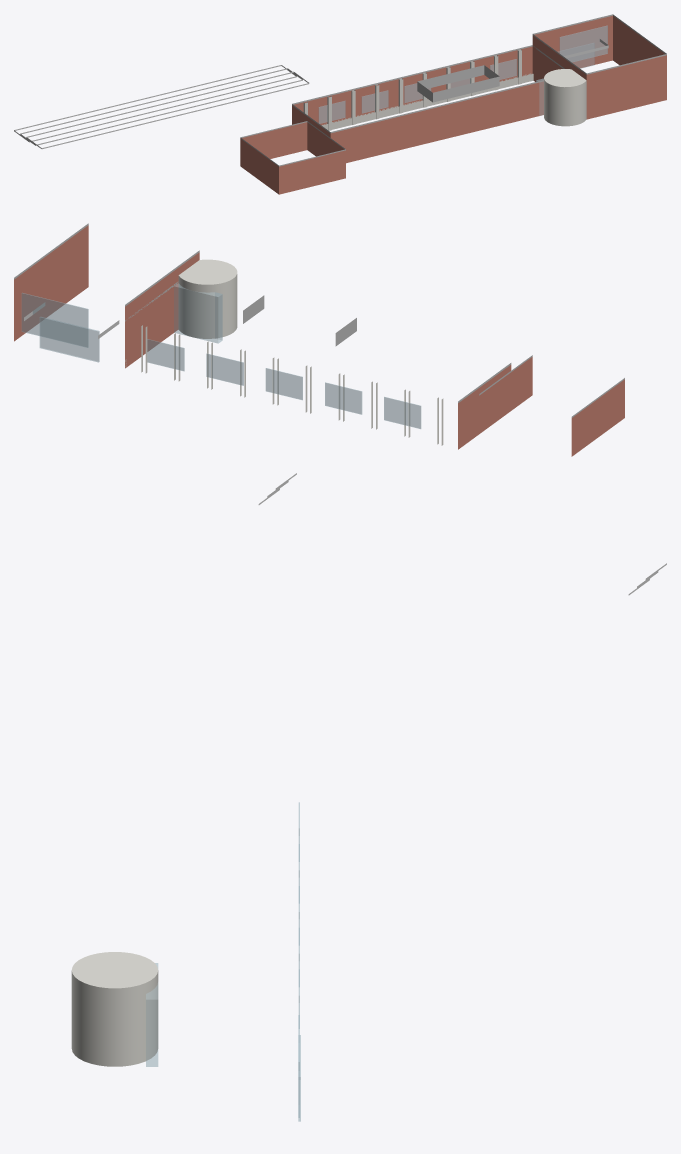
Rendered from schwitzer_v2.gltf.
3 renders of one model, top to bottom at view 1: azimuth 30°, elevation 25°; view 2: azimuth 150°, elevation 25°; view 3: azimuth 270°, elevation 25°, orthographic. The views are drawn at different scales.
Visible parts, largest first — view 1: SchwitzerStudentCenter; view 2: SchwitzerStudentCenter; view 3: SchwitzerStudentCenter.
Boxes of the visible parts, <box> form: SchwitzerStudentCenter: <box>14,14,666,194</box>; SchwitzerStudentCenter: <box>14,223,666,595</box>; SchwitzerStudentCenter: <box>71,802,300,1121</box>.
Bounding box in the file's own units: 195 × 16.5 × 87.
